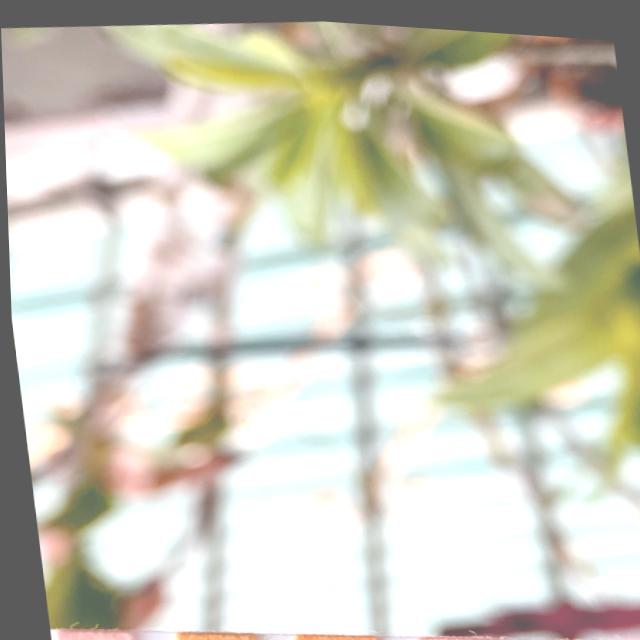Blood: (291, 626, 370, 640)
Ketone: (52, 626, 127, 640)
Protein: (539, 628, 621, 640)
SpGravity: (172, 628, 249, 640)
pH: (415, 627, 495, 640)
